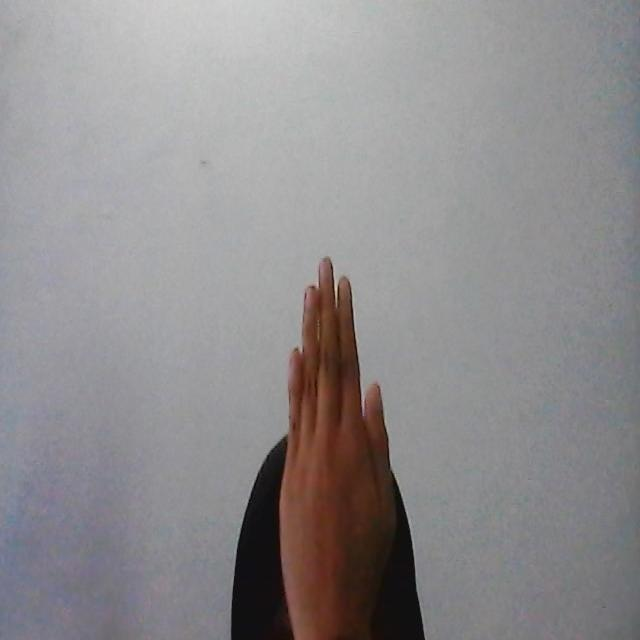hand: (280, 243, 415, 640)
